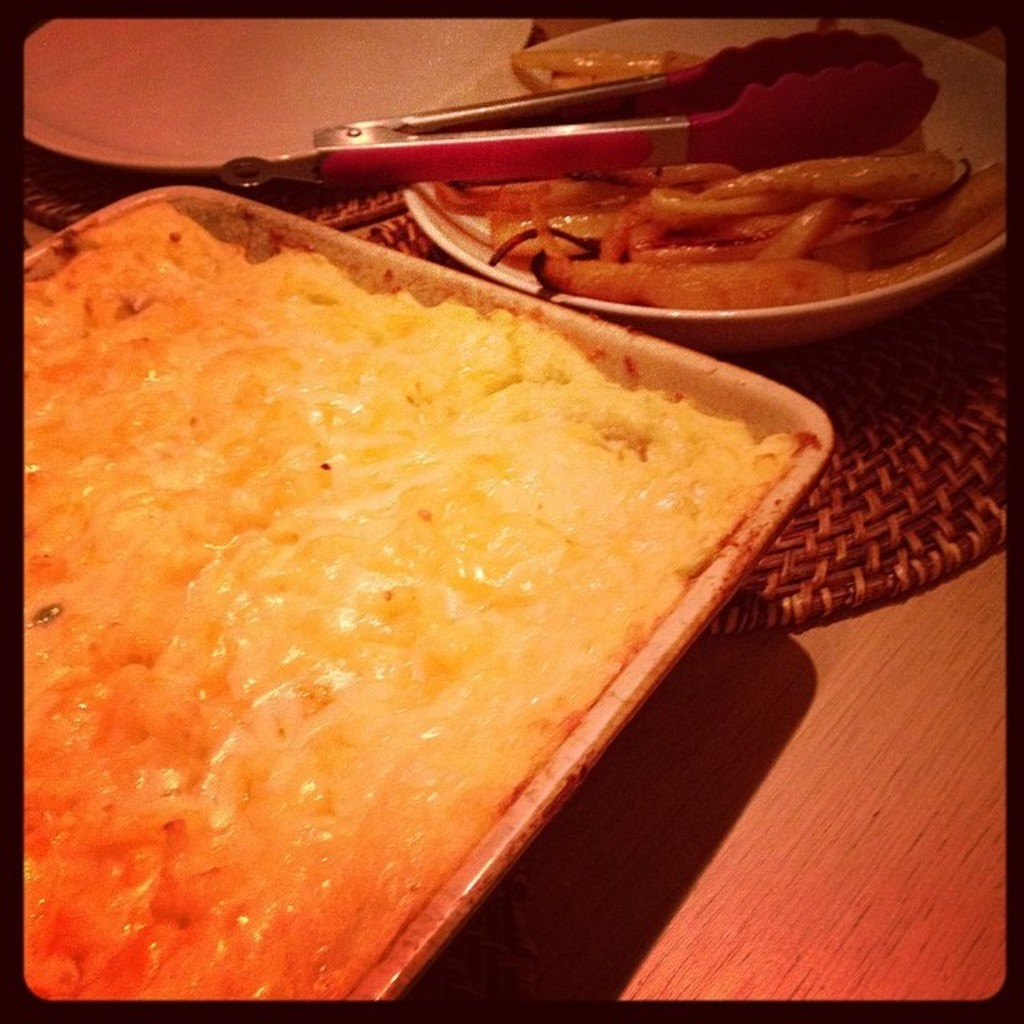French fries: (475, 100, 999, 305)
